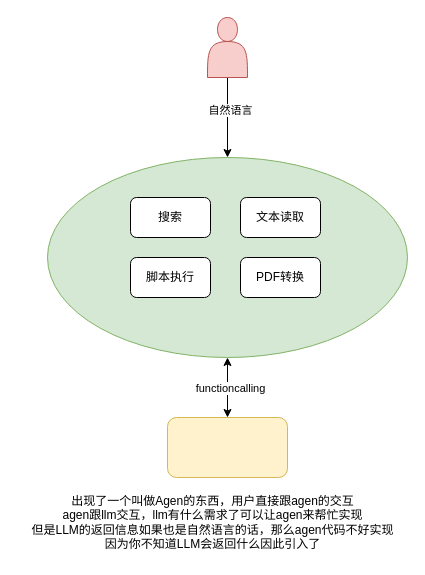
Image size: 425x575. Some labels were removed from this diagram. Each missing label, with the box of its shape:
LLM: (166, 416, 288, 478)
智能体 Agent: (46, 156, 408, 358)
